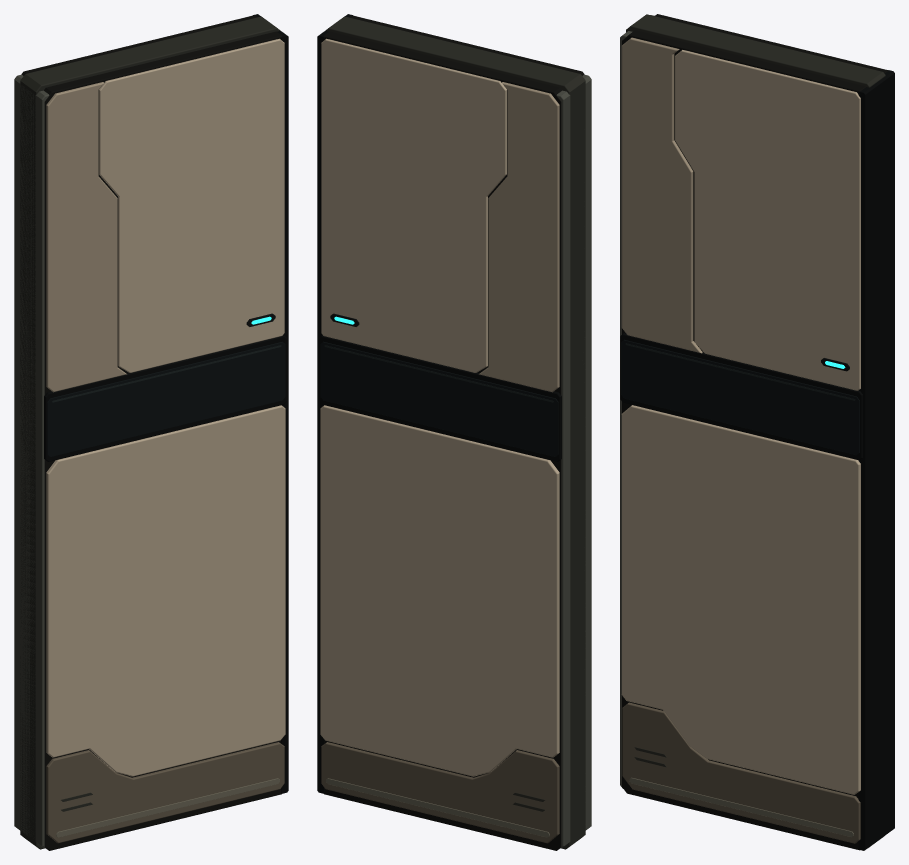
File: SM_SlidingDoor_Left.fbx
3 renders of one model, left to right at view 1: azimuth 30°, elevation 25°; view 2: azimuth 150°, elevation 25°; view 3: azimuth 330°, elevation 25°, orthographic.
Visible parts, largest first — view 1: SM_SlidingDoor_Left; view 2: SM_SlidingDoor_Left; view 3: SM_SlidingDoor_Left.
Part boxes in pixels (x1=…): SM_SlidingDoor_Left: x1=14, y1=14, x2=288, y2=850; SM_SlidingDoor_Left: x1=317, y1=14, x2=591, y2=850; SM_SlidingDoor_Left: x1=620, y1=14, x2=894, y2=850.
Size of the model in its own units: 0.6582 by 0.1535 by 1.95.
